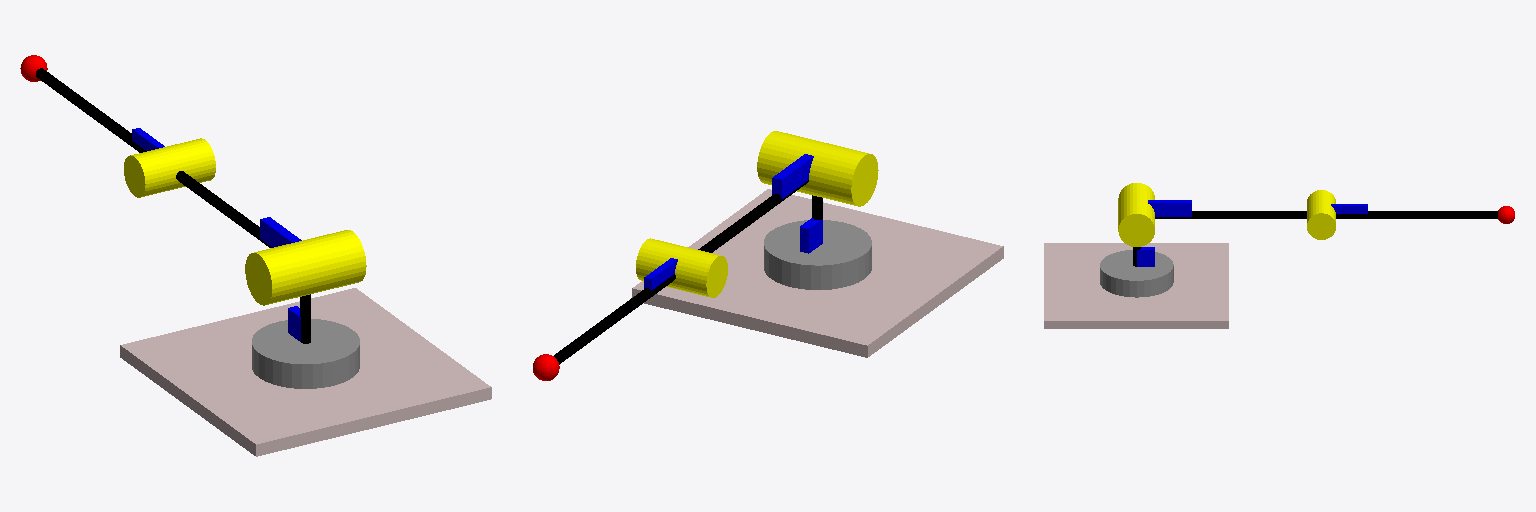
URDF robot description (threeDOF):
<?xml version="1.0"?>

<robot name="threeDOF">
  
  <!-- *************************************************** -->
  <!-- ******************** Kinematics ******************* -->
  <!-- *************************************************** -->
  <!-- Note the 'origin' tag in the joints defines the
       shift and reorientation before the continuous joint
       rotates around the 'axis'. -->

  <link name="world"/>

  <joint name="theta1" type="continuous">
    <parent link="world"/>
    <child  link="link1"/>
    <origin xyz="0 0 0" rpy="0 0 0"/>
    <axis   xyz="0 0 1"/>
  </joint>

  <link name="link1"/>

  <joint name="theta2" type="continuous">
    <parent link="link1"/>
    <child  link="link2"/>
    <origin xyz="0 0 0" rpy="0 0 0"/>
    <axis   xyz="1 0 0"/>
  </joint>

  <link name="link2"/>

  <joint name="theta3" type="continuous">
    <parent link="link2"/>
    <child  link="link3"/>
    <origin xyz="0 1 0" rpy="0 0 0"/>
    <axis   xyz="1 0 0"/>
  </joint>

  <link name="link3"/>

  <joint name="shifttotip" type="fixed">
    <parent link="link3"/>
    <child  link="tip"/>
    <origin xyz="0 1 0" rpy="0 0 0"/>
  </joint>

  <link name="tip"/>


  <!-- *************************************************** -->
  <!-- ********************* Graphics ******************** -->
  <!-- *************************************************** -->
  <!-- The following is purely to make this look roboticy. -->
  <!-- The 'origin' tag in the link/visual defines the
       center of the object (box, cylinder, sphere, mesh)
       but does not affect the joint chain kinematics. -->

  <!-- *************** Materials / Colors **************** -->

  <material name="white">    <color rgba="1.00 1.00 1.00 1"/>  </material>
  <material name="gray">     <color rgba="0.60 0.60 0.60 1"/>  </material>
  <material name="table">    <color rgba="0.85 0.77 0.77 1"/>  </material>
  <material name="black">    <color rgba="0.00 0.00 0.00 1"/>  </material>

  <material name="red">      <color rgba="1.00 0.00 0.00 1"/>  </material>
  <material name="green">    <color rgba="0.00 1.00 0.00 1"/>  </material>
  <material name="blue">     <color rgba="0.00 0.00 1.00 1"/>  </material>

  <material name="cyan">     <color rgba="0.00 1.00 1.00 1"/>  </material>
  <material name="magenta">  <color rgba="1.00 0.00 1.00 1"/>  </material>
  <material name="yellow">   <color rgba="1.00 1.00 0.00 1"/>  </material>

  <material name="orange">   <color rgba="1.00 0.65 0.00 1"/>  </material>


  <!-- *** Table - attached to world *** -->

  <joint name="attach-table" type="fixed">
    <parent link="world"/>
    <child  link="table"/>
  </joint>

  <link name="table">
    <visual>
      <origin xyz="0 0 -0.425" rpy="0 0 0"/>
      <geometry>
	<box size="1.0 1.0 0.05"/>
      </geometry>
      <material name="table"/>
    </visual>
  </link>

  <!-- *** Yaw Motor - attached to world *** -->

  <joint name="attach-yawmotor" type="fixed">
    <parent link="world"/>
    <child  link="yawmotor"/>
  </joint>

  <link name="yawmotor">
    <visual>
      <origin xyz="0 0 -0.35" rpy="0 0 0"/>
      <geometry>
	<cylinder length="0.1" radius="0.2"/>
      </geometry>
      <material name="gray"/>
    </visual>
  </link>

  <!-- *** Link 1 Bar - attached to link1 (yaw joint output) *** -->

  <joint name="attach-link1bar" type="fixed">
    <parent link="link1"/>
    <child  link="link1bar"/>
  </joint>

  <link name="link1bar">
    <visual>
      <origin xyz="0 0 -0.2" rpy="0 0 0"/>
      <geometry>
	<cylinder length="0.2" radius="0.02"/>
      </geometry>
      <material name="black"/>
    </visual>
  </link>

  <!-- *** Link 1 Sail - attached to link1 (yaw joint output) *** -->

  <joint name="attach-link1sail" type="fixed">
    <parent link="link1"/>
    <child  link="link1sail"/>
  </joint>

  <link name="link1sail">
    <visual>
      <origin xyz="0 0.05 -0.25" rpy="0 0 0"/>
      <geometry>
      	<box size="0.04 0.1 0.1"/>
      </geometry>
      <material name="blue"/>
    </visual>
  </link>

  <!-- *** Pitch 1 Motor - attached to link1 (yaw joint output) *** -->

  <joint name="attach-pitch1motor" type="fixed">
    <parent link="link1"/>
    <child  link="pitch1motor"/>
  </joint>

  <link name="pitch1motor">
    <visual>
      <origin xyz="0 0 0" rpy="0 1.5708 0"/>
      <geometry>
	<cylinder length="0.4" radius="0.1"/>
      </geometry>
      <material name="yellow"/>
    </visual>
  </link>

  <!-- *** Link 2 Bar - attached to link2 (pitch1 joint output) *** -->

  <joint name="attach-link2bar" type="fixed">
    <parent link="link2"/>
    <child  link="link2bar"/>
  </joint>

  <link name="link2bar">
    <visual>
      <origin xyz="0 0.5 0" rpy="-1.5708 0 0"/>
      <geometry>
	<cylinder length="1.0" radius="0.02"/>
      </geometry>
      <material name="black"/>
    </visual>
  </link>

  <!-- *** Link 2 Sail - attached to link2 (pitch1 joint output) *** -->

  <joint name="attach-link2sail" type="fixed">
    <parent link="link2"/>
    <child  link="link2sail"/>
  </joint>

  <link name="link2sail">
    <visual>
      <origin xyz="0 0.15 0.04" rpy="0 0 0"/>
      <geometry>
      	<box size="0.04 0.3 0.08"/>
      </geometry>
      <material name="blue"/>
    </visual>
  </link>

  <!-- *** Pitch 2 Motor - attached to link1 (yaw joint output) *** -->

  <joint name="attach-pitch2motor" type="fixed">
    <parent link="link2"/>
    <child  link="pitch2motor"/>
  </joint>

  <link name="pitch2motor">
    <visual>
      <origin xyz="0 1 0" rpy="0 1.5708 0"/>
      <geometry>
	<cylinder length="0.3" radius="0.08"/>
      </geometry>
      <material name="yellow"/>
    </visual>
  </link>

  <!-- *** Link 3 Bar - attached to link3 (pitch2 joint output) *** -->

  <joint name="attach-link3bar" type="fixed">
    <parent link="link3"/>
    <child  link="link3bar"/>
  </joint>

  <link name="link3bar">
    <visual>
      <origin xyz="0 0.5 0" rpy="-1.5708 0 0"/>
      <geometry>
	<cylinder length="1.0" radius="0.02"/>
      </geometry>
      <material name="black"/>
    </visual>
  </link>

  <!-- *** Link 3 Sail - attached to link3 (pitch2 joint output) *** -->

  <joint name="attach-link3sail" type="fixed">
    <parent link="link3"/>
    <child  link="link3sail"/>
  </joint>

  <link name="link3sail">
    <visual>
      <origin xyz="0 0.125 0.03" rpy="0 0 0"/>
      <geometry>
      	<box size="0.03 0.25 0.06"/>
      </geometry>
      <material name="blue"/>
    </visual>
  </link>

  <!-- *** Tip Ball - attached to tip *** -->

  <joint name="attach-tipball" type="fixed">
    <parent link="tip"/>
    <child  link="tipball"/>
  </joint>

  <link name="tipball">
    <visual>
      <origin xyz="0 0 0" rpy="0 0 0"/>
      <geometry>
      	<sphere radius="0.05"/>
      </geometry>
      <material name="red"/>
    </visual>
  </link>

</robot>

--- Render facts (derived) ---
The picture shows the robot from 3 angles, left to right: view 1: azimuth 30°, elevation 25°; view 2: azimuth 150°, elevation 25°; view 3: azimuth 270°, elevation 25°; orthographic projection.
Robot: threeDOF — 16 links, 15 joints (3 continuous, 12 fixed); root link world; default pose: all joints at 0.
Visible links, largest first — view 1: table, pitch1motor, yawmotor, pitch2motor, link3bar, link2bar, link2sail; view 2: table, yawmotor, pitch1motor, pitch2motor, link3bar, link2bar, link2sail, link1sail, tipball, link3sail; view 3: table, yawmotor, pitch1motor, pitch2motor, link3bar, link2bar, link2sail.
Boxes of the visible links, x1,y1,x2,y2 form: table: (120, 288, 491, 456); pitch1motor: (245, 230, 366, 305); yawmotor: (252, 319, 359, 388); pitch2motor: (124, 138, 215, 197); link3bar: (36, 68, 146, 152); link2bar: (176, 171, 271, 247); link2sail: (260, 217, 301, 247); table: (632, 189, 1003, 357); yawmotor: (764, 220, 871, 289); pitch1motor: (757, 131, 878, 206); pitch2motor: (636, 238, 727, 297); link3bar: (554, 274, 675, 364); link2bar: (698, 180, 808, 252); link2sail: (772, 154, 813, 198); link1sail: (800, 218, 822, 253); tipball: (533, 354, 559, 380); link3sail: (644, 258, 677, 290); table: (1044, 243, 1228, 328); yawmotor: (1100, 250, 1173, 297); pitch1motor: (1118, 183, 1154, 246); pitch2motor: (1307, 190, 1335, 239); link3bar: (1336, 211, 1497, 218); link2bar: (1155, 211, 1306, 218); link2sail: (1148, 200, 1191, 216).
Size in the robot's own frame: 1 by 2.55 by 0.55 metres.
Geometry: primitives only (box / cylinder / sphere), no mesh files.